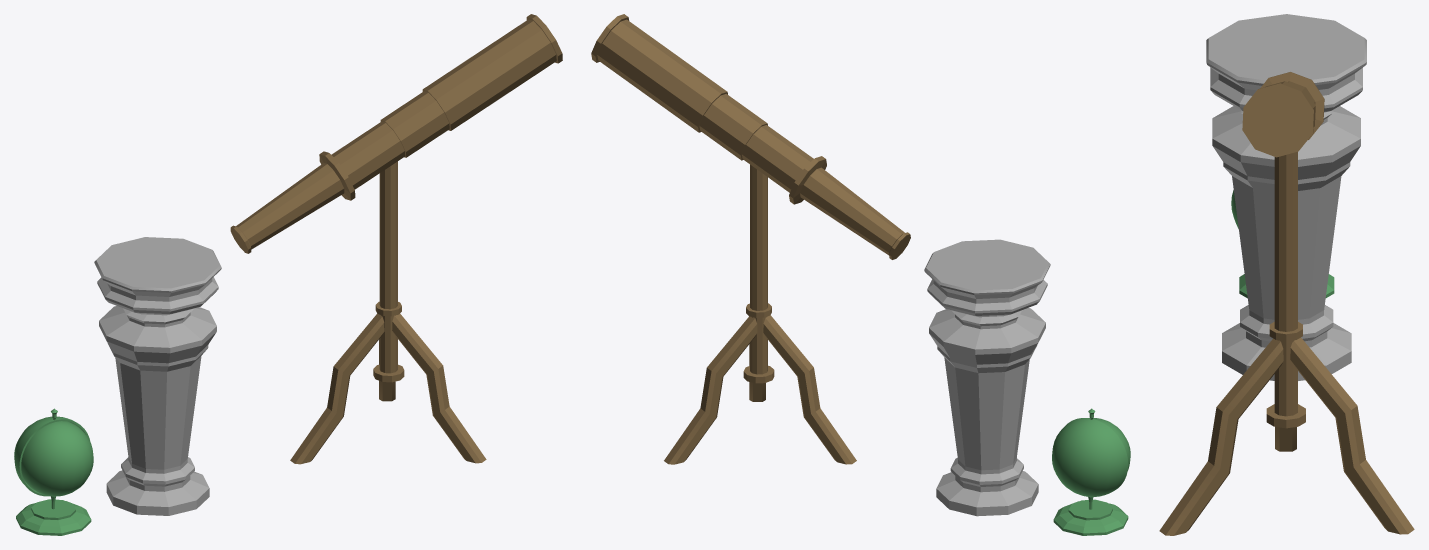
Rendered from EL_Observatory_Props_Unwrapped.fbx.
The picture shows the model from 3 angles, left to right: view 1: azimuth 30°, elevation 25°; view 2: azimuth 150°, elevation 25°; view 3: azimuth 270°, elevation 25°; orthographic projection. The views are drawn at different scales.
Parts seen in each view (by area): view 1: Observatory_Pedestal, Telescope, Globe, Telescope_Base, Telescope_BaseLeg3, Telescope_BaseLeg1, GlobeBase, BackOfGlobe; view 2: Observatory_Pedestal, Telescope, BackOfGlobe, Telescope_Base, Telescope_BaseLeg3, Telescope_BaseLeg2, GlobeBase; view 3: Observatory_Pedestal, Telescope_Base, Telescope_BaseLeg1, Telescope_BaseLeg2, Telescope, Telescope_BaseRingBottom, Telescope_BaseLeg3, Telescope_BaseRingTop, GlobeBase.
Boxes of the visible parts, x1,y1,x2,y2 form: Observatory_Pedestal: [94, 237, 221, 515]; Telescope: [230, 14, 562, 253]; Globe: [21, 421, 93, 496]; Telescope_Base: [379, 161, 397, 373]; Telescope_BaseLeg3: [290, 313, 384, 464]; Telescope_BaseLeg1: [392, 313, 486, 463]; GlobeBase: [16, 499, 91, 535]; BackOfGlobe: [14, 416, 89, 496]; Observatory_Pedestal: [924, 239, 1050, 516]; Telescope: [591, 14, 910, 259]; BackOfGlobe: [1052, 418, 1128, 496]; Telescope_Base: [750, 164, 767, 374]; Telescope_BaseLeg3: [763, 315, 856, 464]; Telescope_BaseLeg2: [664, 316, 757, 464]; GlobeBase: [1053, 499, 1128, 535]; Observatory_Pedestal: [1206, 14, 1366, 380]; Telescope_Base: [1274, 151, 1297, 416]; Telescope_BaseLeg1: [1159, 338, 1283, 535]; Telescope_BaseLeg2: [1290, 337, 1414, 534]; Telescope: [1242, 72, 1324, 157]; Telescope_BaseRingBottom: [1266, 404, 1305, 428]; Telescope_BaseLeg3: [1275, 427, 1296, 451]; Telescope_BaseRingTop: [1269, 322, 1302, 341]; GlobeBase: [1239, 274, 1334, 298].
Bounding box in the file's own units: 33.91 × 23.56 × 10.64.
